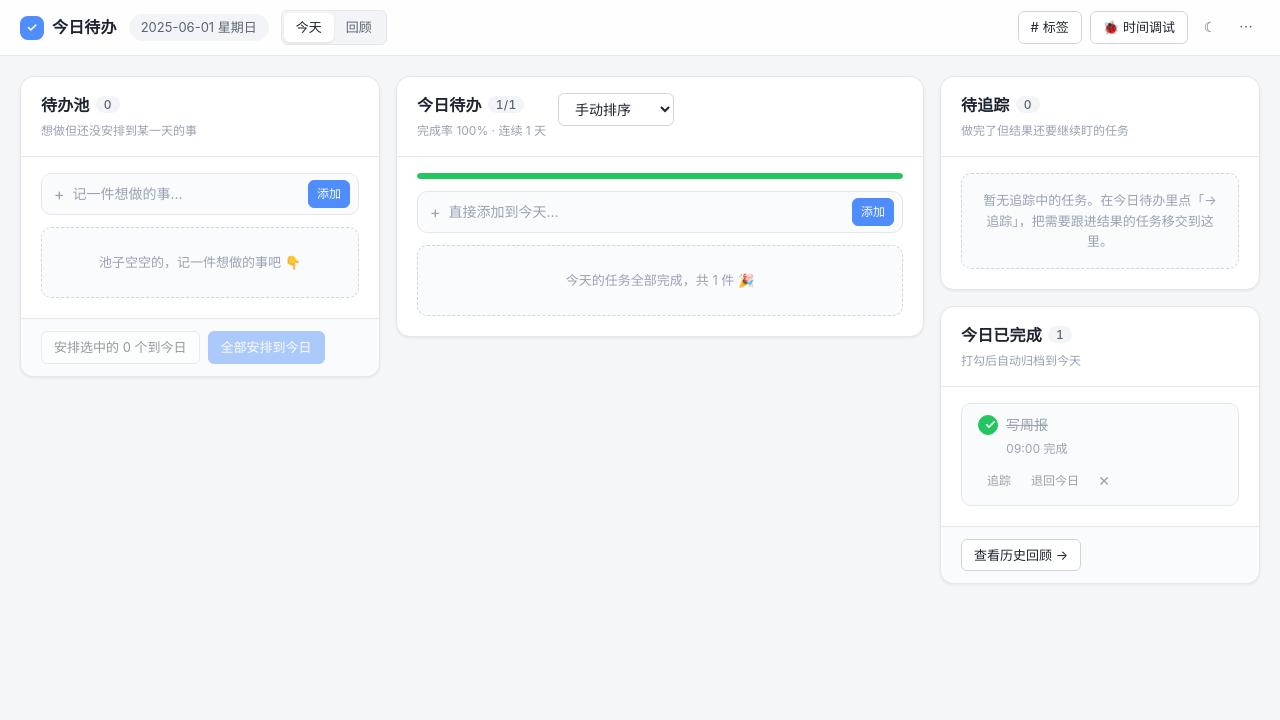
Test: App 真实渲染（jsdom） › 导出：可切到 CSV，带 BOM 与表头，便于 Excel 统计
Step 1. Click the button named "数据管理" → x=1246, y=28, box [1232,14,1260,42]
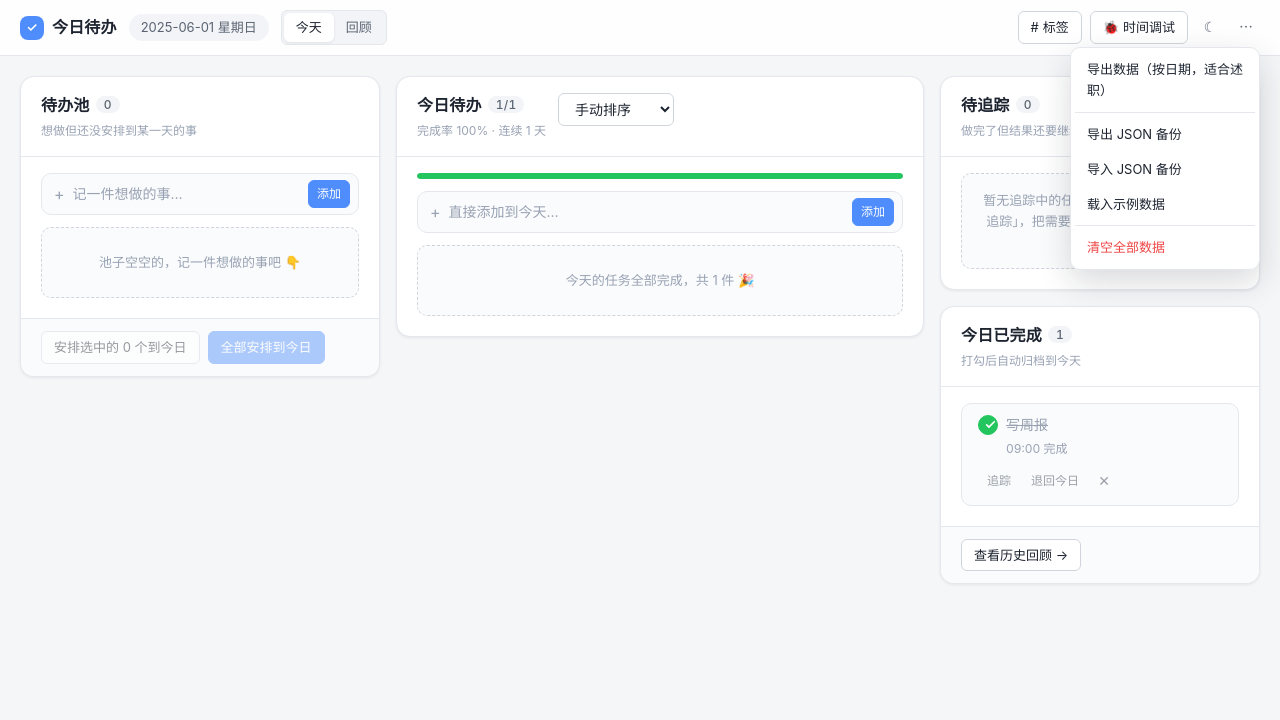
Step 2. Click the menu item "导出数据（按日期，适合述职）" → x=1165, y=80, box [1075,52,1255,108]
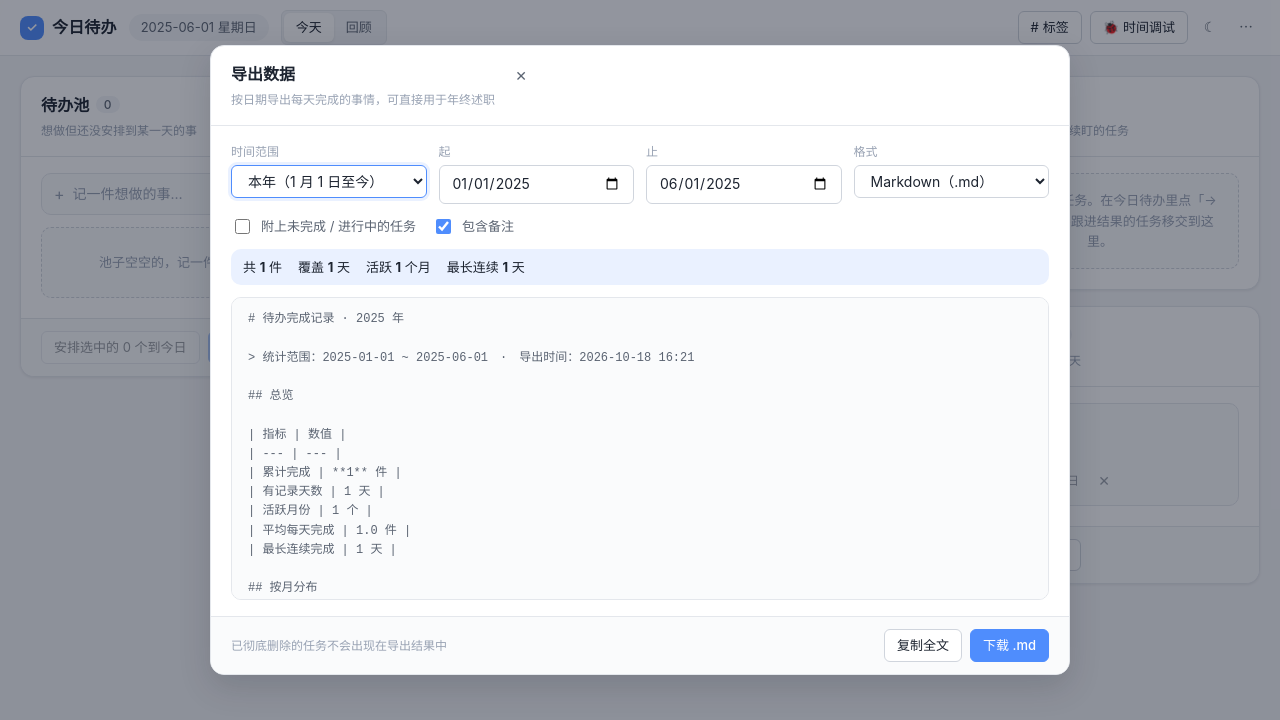
Step 3. Select "CSV（.csv，给 Excel）" in the dropdown labelled "格式" → x=951, y=182, box [854,165,1049,198]
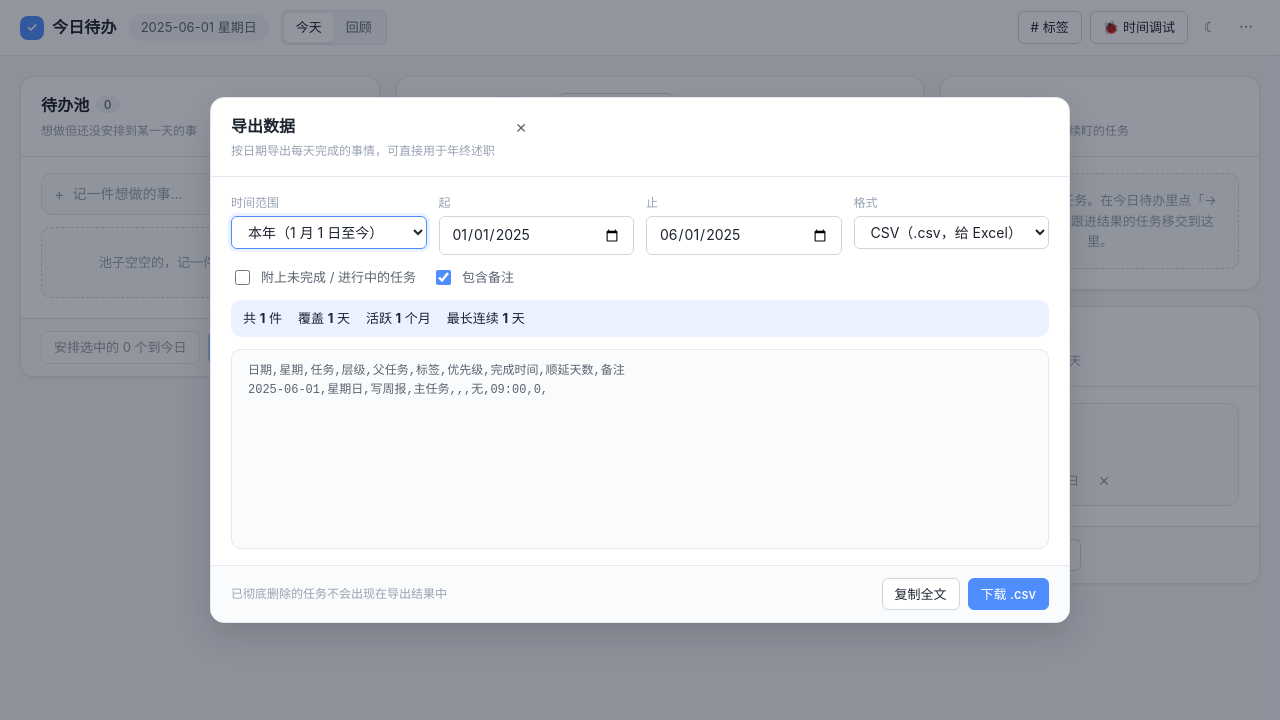
Result: the text named "导出内容预览" shows "日期,星期,任务,层级,父任务" at [248,364,625,397]
Result: the text named "导出内容预览" shows "写周报,主任务" at [248,364,625,397]
